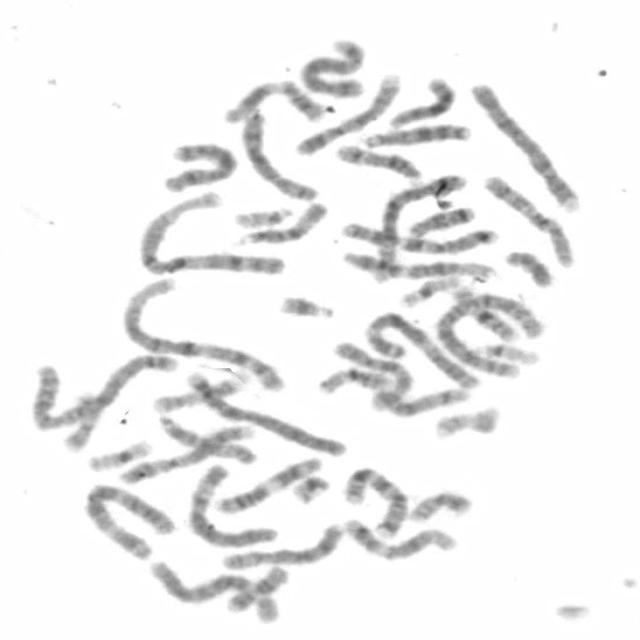A1: (117, 274, 288, 394), (134, 188, 290, 278)
A2: (25, 349, 181, 433), (431, 286, 545, 384)
A3: (361, 308, 481, 390), (77, 481, 176, 561)
B4: (468, 78, 583, 212), (185, 368, 349, 458)
B5: (366, 174, 466, 286), (295, 34, 368, 99)
C10: (480, 170, 577, 270), (330, 338, 417, 416)
C11: (210, 454, 325, 516), (218, 77, 326, 125)
C12: (337, 250, 500, 287), (338, 516, 458, 562)
C6: (144, 557, 285, 626), (183, 462, 277, 549)
C7: (338, 218, 502, 255), (338, 466, 414, 538)
C8: (242, 110, 320, 204), (217, 518, 346, 571)
C9: (291, 72, 403, 158), (114, 422, 257, 486)
D13: (382, 75, 459, 131), (360, 120, 472, 150)
D14: (332, 140, 425, 183), (366, 383, 471, 417)
D15: (155, 411, 258, 466), (230, 198, 321, 247)
E16: (448, 285, 518, 343), (313, 366, 390, 396)
E17: (148, 380, 242, 414), (430, 403, 496, 440)
E18: (222, 567, 292, 613), (404, 208, 477, 240)
F19: (82, 437, 154, 473), (395, 272, 461, 309)
F20: (404, 486, 472, 524), (66, 390, 102, 452)
G21: (288, 463, 333, 506), (274, 292, 338, 322)
G22: (230, 202, 300, 230), (472, 344, 536, 366)
X: (159, 140, 238, 195)
Y: (502, 252, 555, 289)
